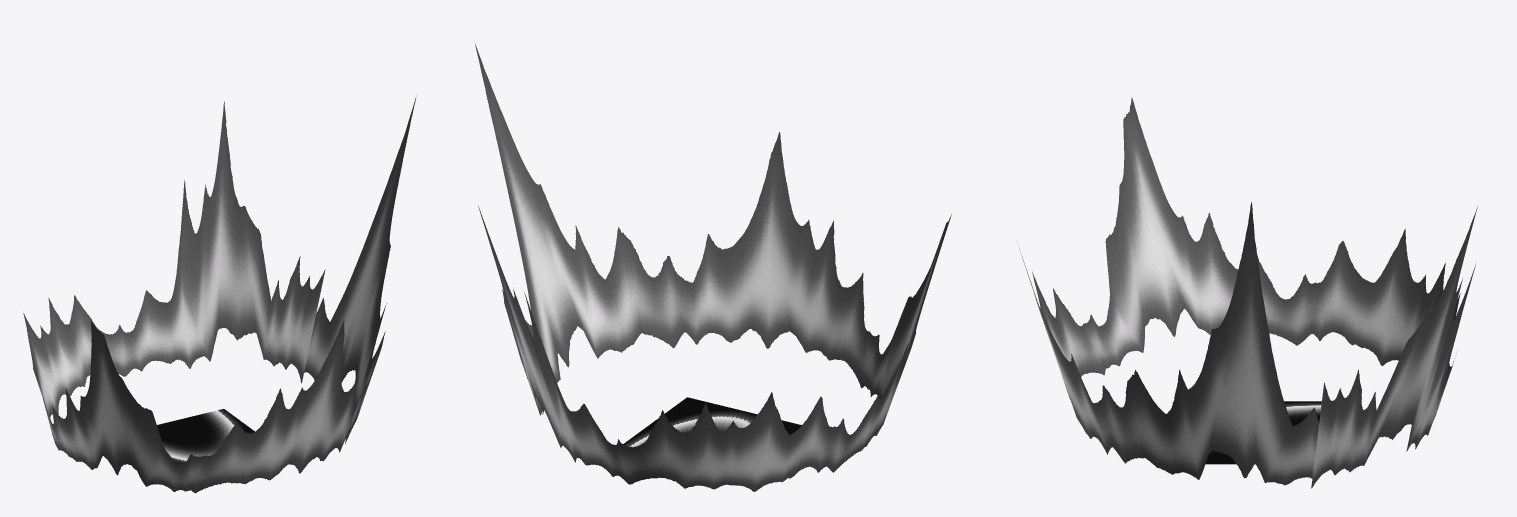
Rendered from mod_impact_flipped_normals.fbx.
3 views of the same model, side by side, from view 1: azimuth 30°, elevation 25°; view 2: azimuth 150°, elevation 25°; view 3: azimuth 270°, elevation 25° (orthographic). The views are drawn at different scales.
Parts seen in each view (by area): view 1: mod_impact_flipped_normals, mod_star; view 2: mod_impact_flipped_normals, mod_star; view 3: mod_impact_flipped_normals, mod_star.
Boxes of the visible parts, x1,y1,x2,y2 form: mod_impact_flipped_normals: (23,97,416,493); mod_star: (157,409,254,464); mod_impact_flipped_normals: (475,44,951,491); mod_star: (623,397,801,447); mod_impact_flipped_normals: (1019,98,1477,488); mod_star: (1205,401,1321,464).
Size of the model in its own units: 180 by 143 by 166.
Materials: 2 (2 with a texture image).
